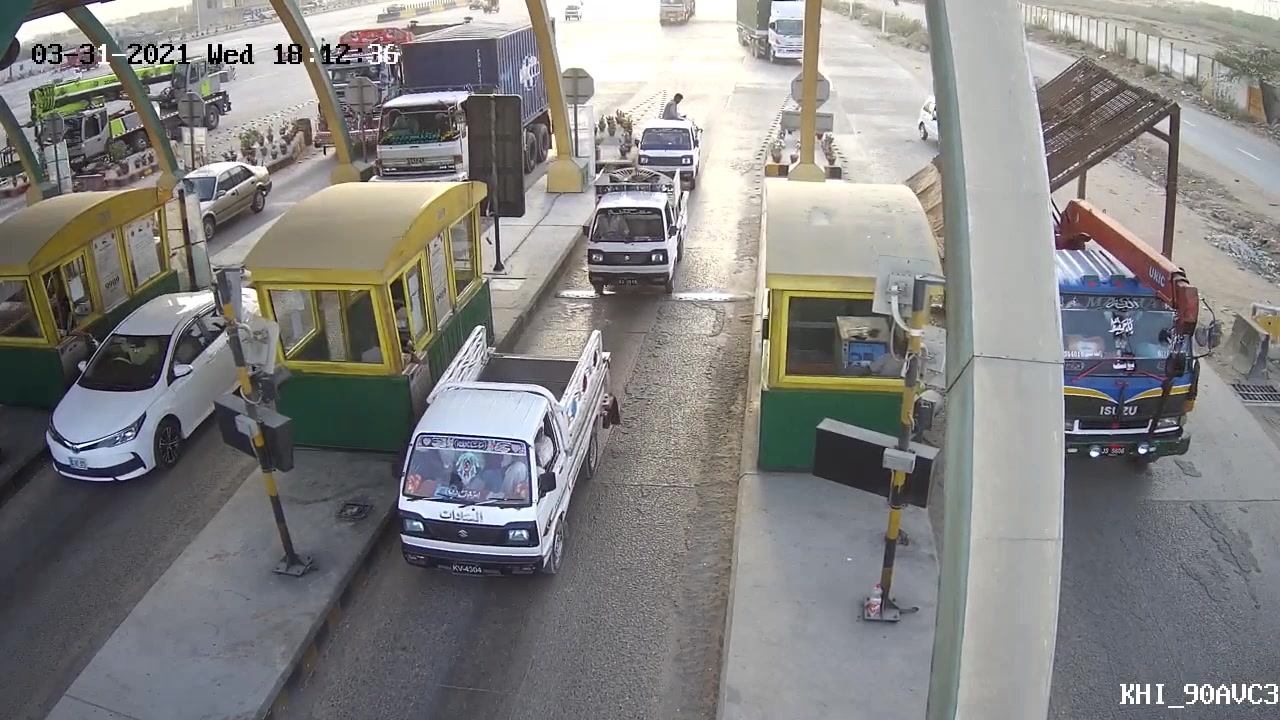F1: (383, 326, 624, 584), (571, 155, 689, 297)
